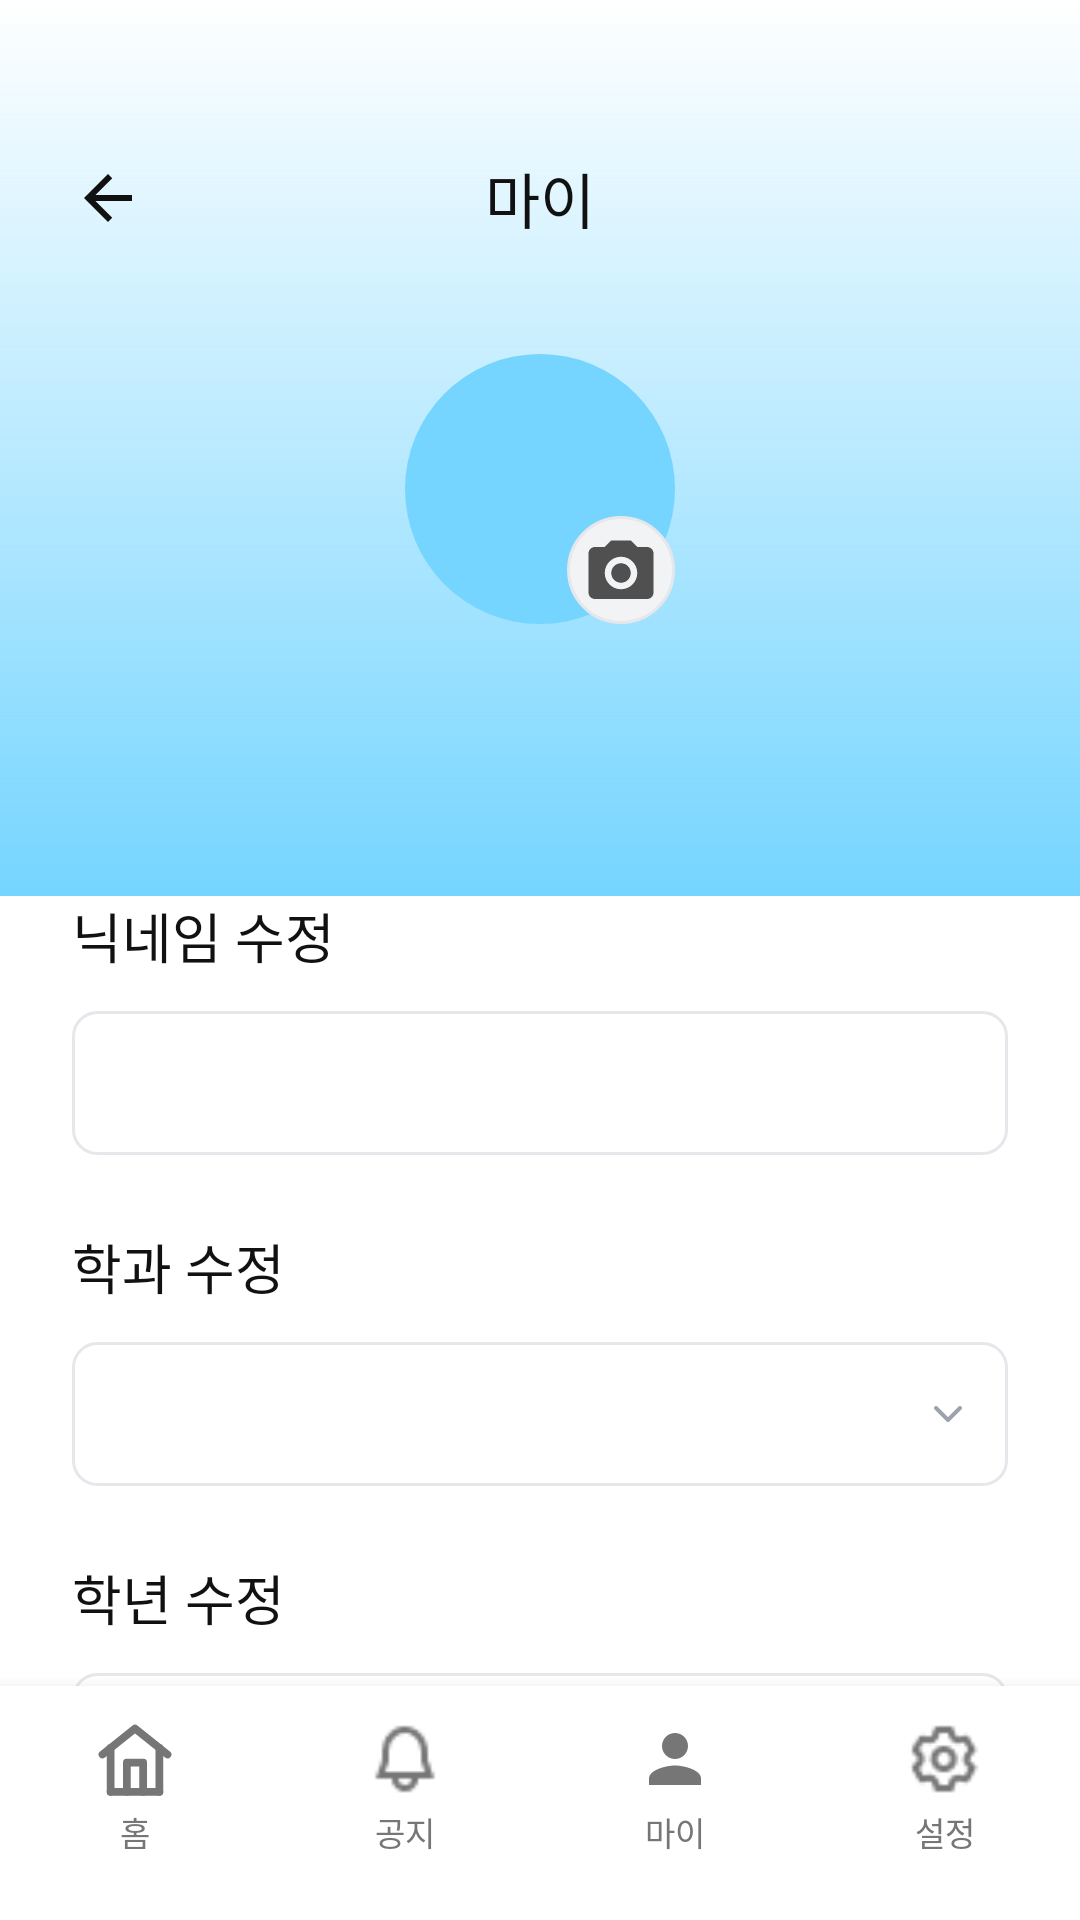

Screen size 1080px x 1920px. Icon name, then its center in pixels as (x,y):
back: (108,198)
camera: (621,570)
